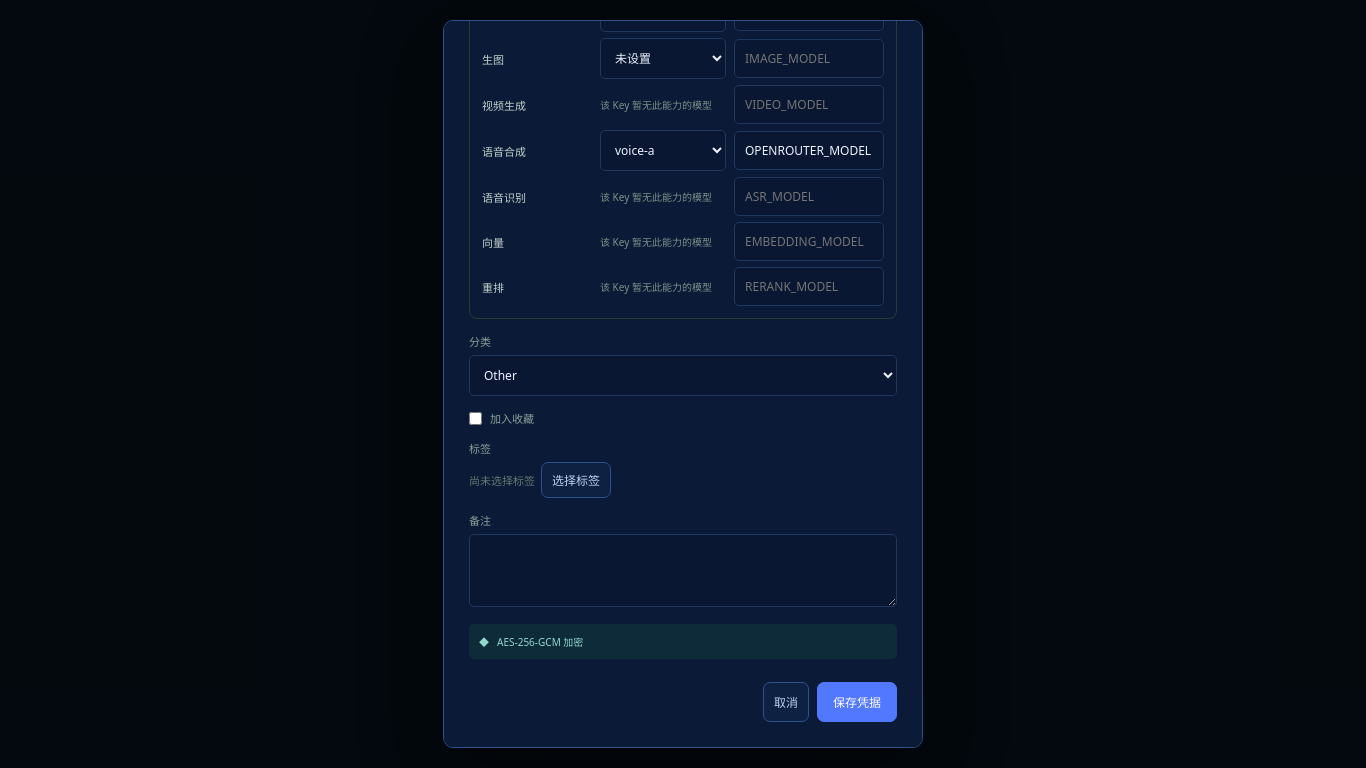
Test: SecretForm capability section › rejects duplicate variable names, including the key's own names
(page scrolled)
Click the button "保存凭据" at (857, 702), box [817,682,897,722]
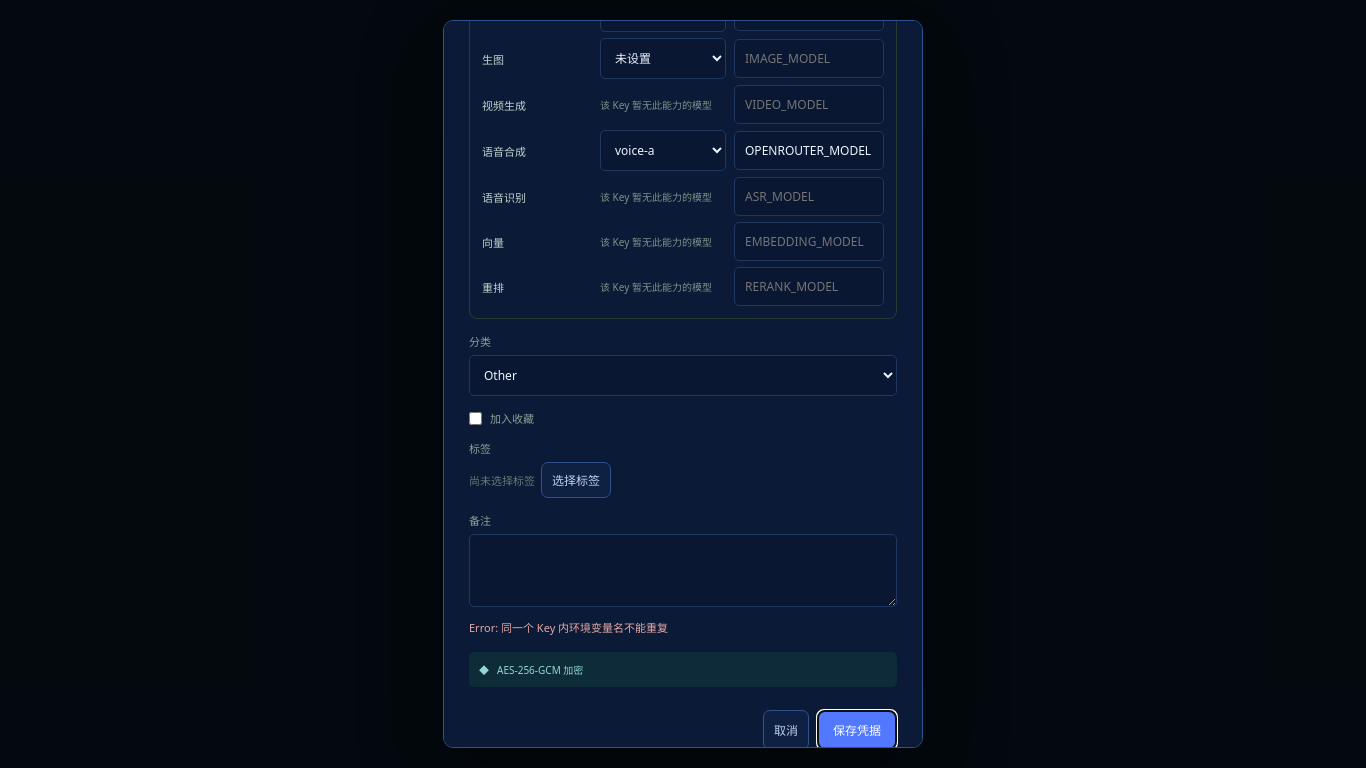
Expected: the message shows "同一个 Key 内环境变量名不能重复", [469,620,668,635]
